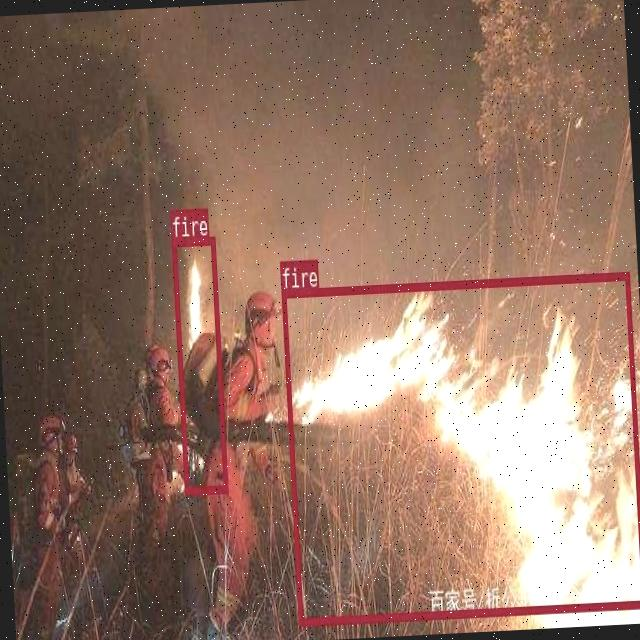fire: (281, 270, 640, 625), (171, 236, 227, 493)
